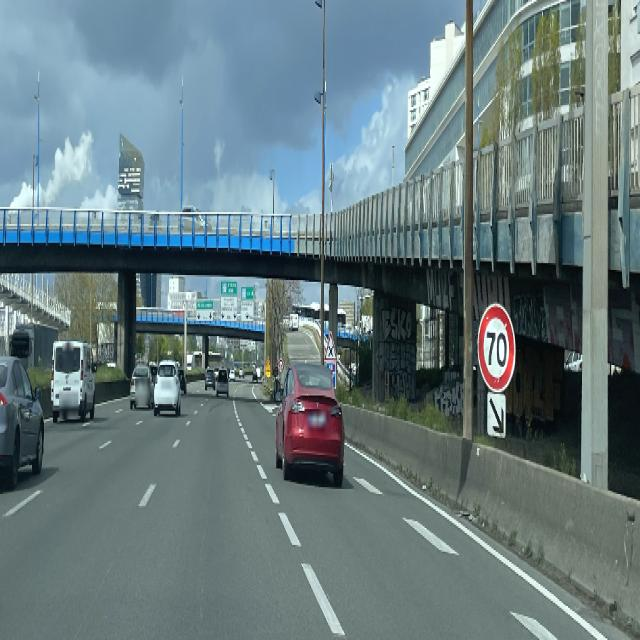speed_70: (476, 303, 517, 391)
